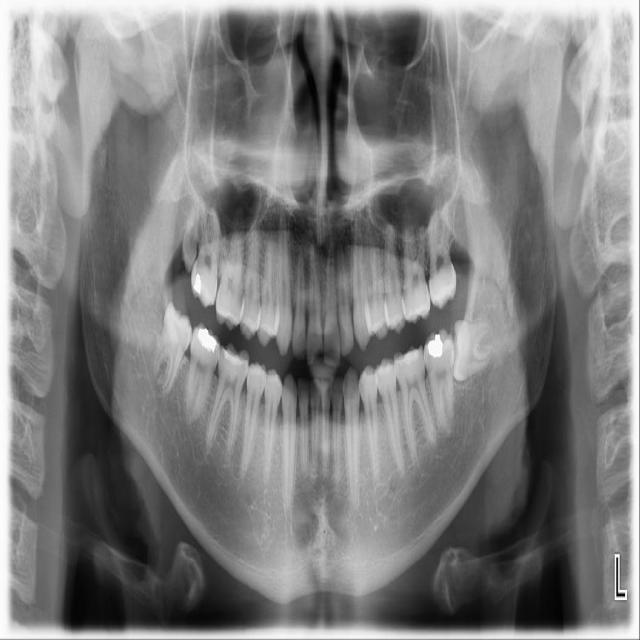3M ESPE Implant: (180, 191, 203, 273)
52: (187, 320, 224, 372), (189, 254, 219, 310), (423, 327, 454, 375)
73: (606, 558, 612, 566)
BioHorizons Implant: (428, 192, 456, 311)
Biomet 3i Implant: (452, 320, 494, 383)
Blue Sky Bio Implant: (423, 326, 455, 436)
Caries: (189, 197, 222, 309)
Implant: (182, 321, 223, 427)
Keystone Dental Implant: (144, 300, 200, 397)
